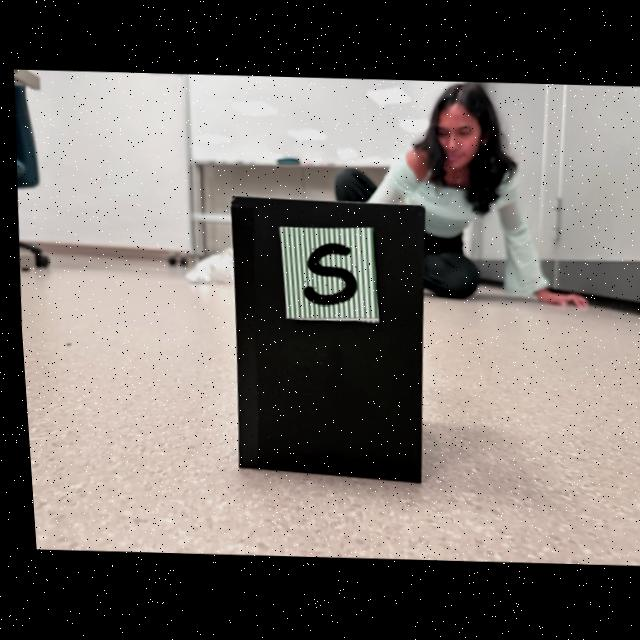S: (299, 244, 352, 306)
